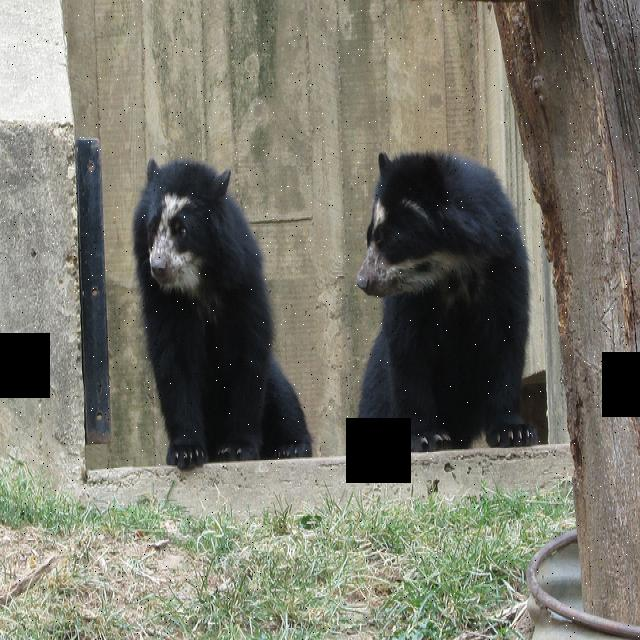Bear: (352, 141, 542, 483), (127, 148, 319, 486)
